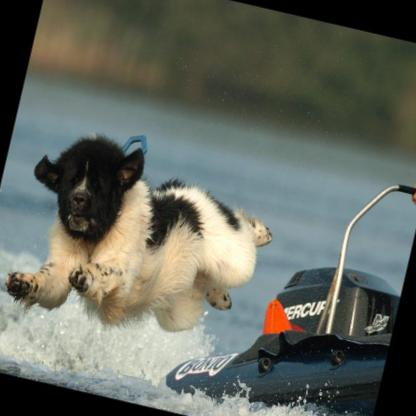Newfoundland: (1, 120, 286, 360)
